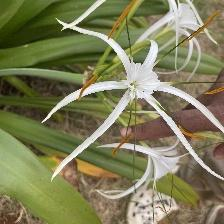spider lily: (41, 17, 224, 189)
